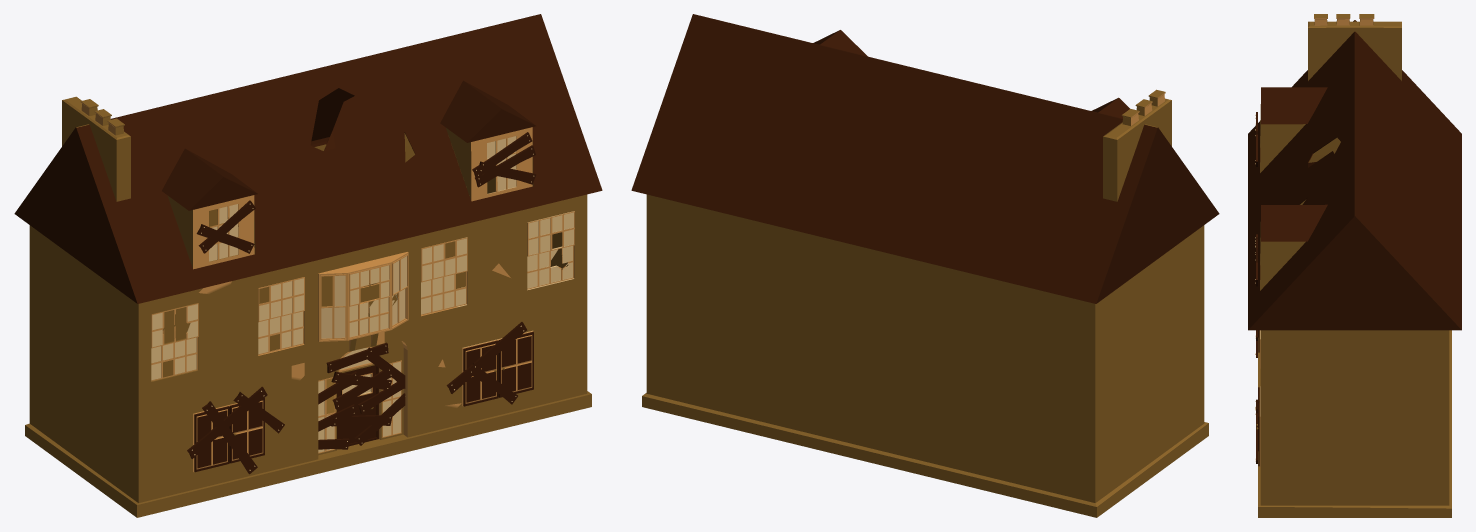
Rendered from House Broken.fbx.
3 renders of one model, left to right at view 1: azimuth 30°, elevation 25°; view 2: azimuth 150°, elevation 25°; view 3: azimuth 270°, elevation 25°, orthographic. The views are drawn at different scales.
Visible parts, largest first — view 1: Cube; view 2: Cube; view 3: Cube.
Boxes of the visible parts, x1,y1,x2,y2 form: Cube: [14, 14, 602, 517]; Cube: [631, 14, 1219, 517]; Cube: [1248, 14, 1461, 517].
Bounding box in the file's own units: 7.38 × 5.53 × 3.39.
